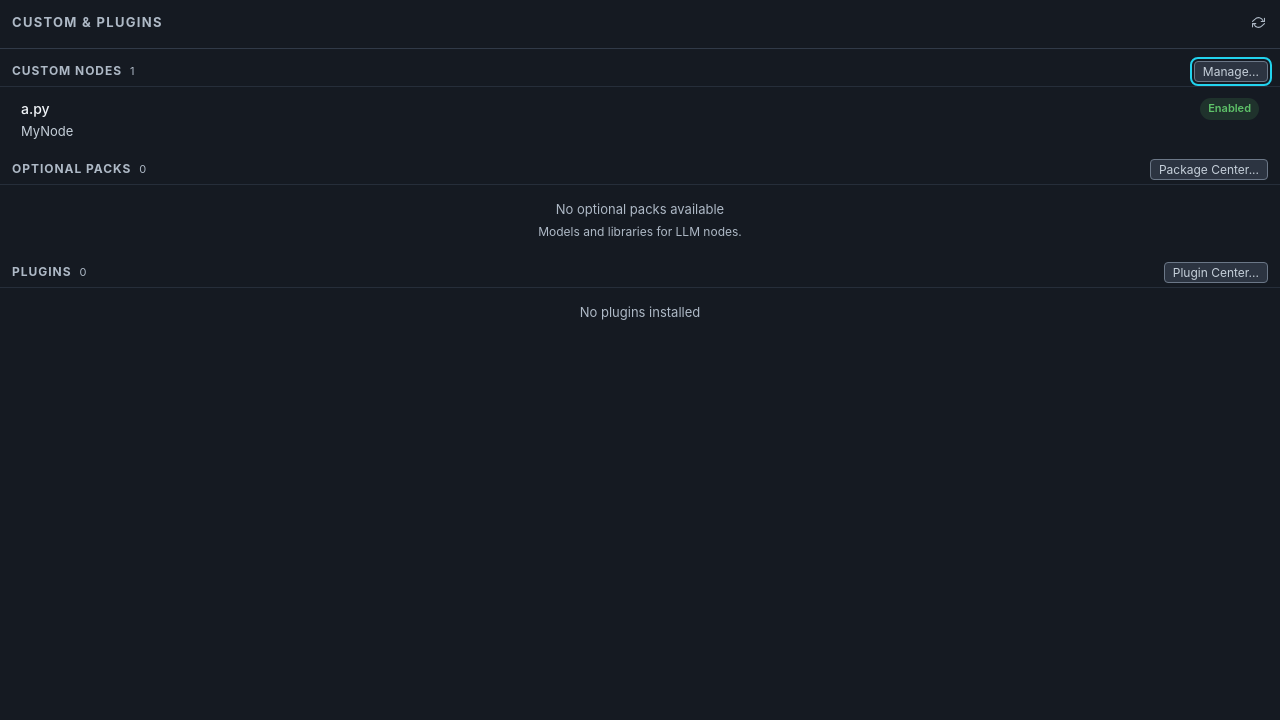
CustomTab › Manage... moves focus into the manager, and closing it hands focus back to Manage...
Expected: the text "a.py" is shown, [21, 100, 50, 117]
Step 1. Click the button "Manage..." → click(1231, 72), box [1194, 61, 1268, 82]
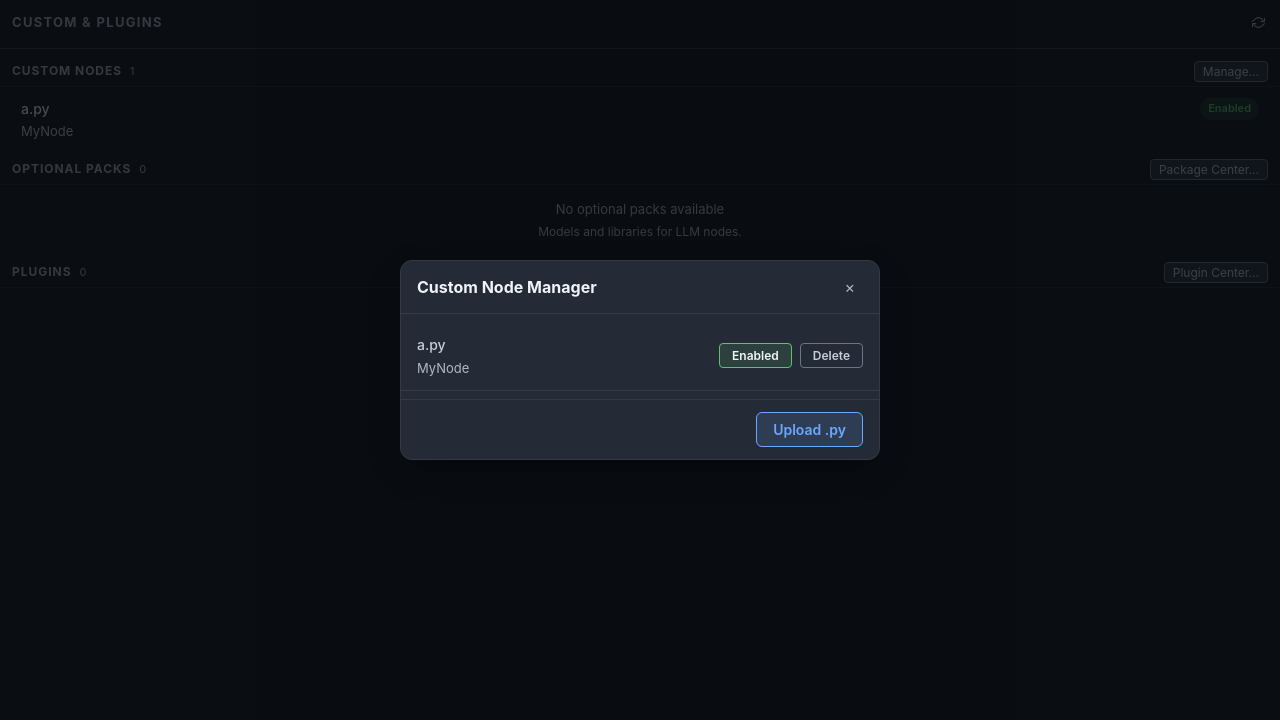
Result: the text "a.py" is shown at [417, 336, 446, 353]
Step 2. Click the button named "Close custom node manager" → click(850, 287), box [836, 273, 863, 301]
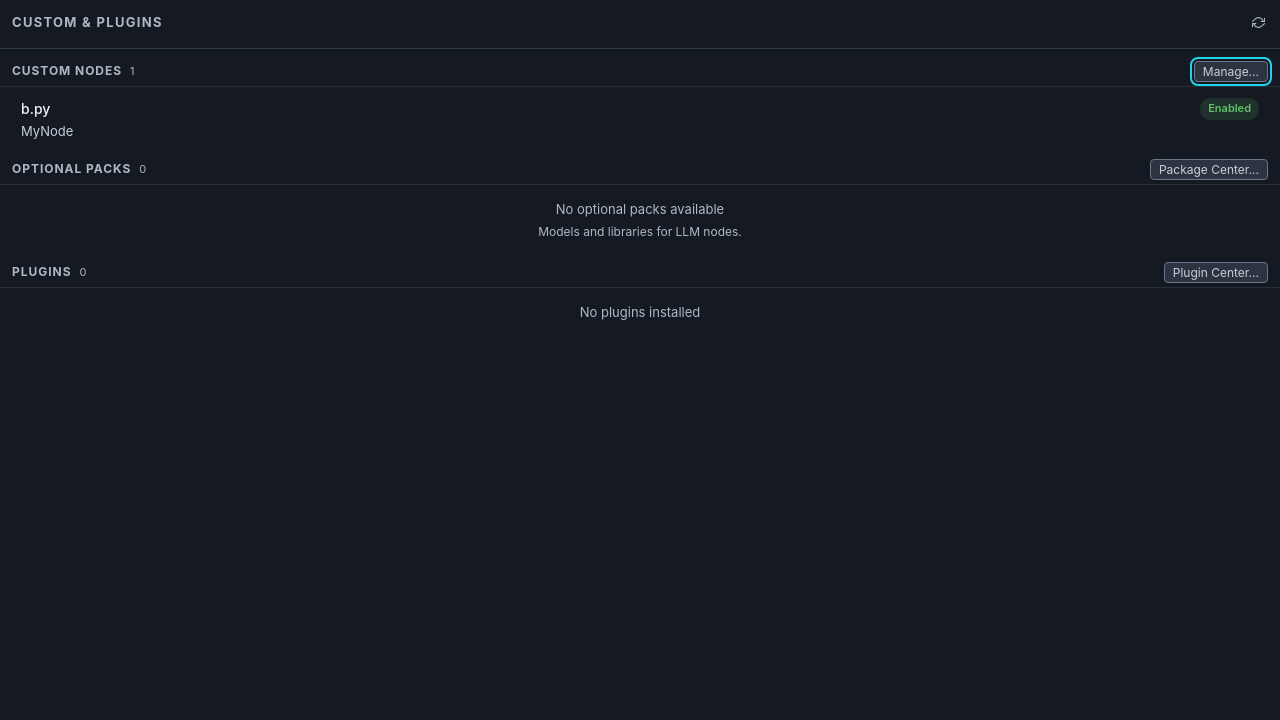
Result: the text "b.py" is shown at [21, 100, 50, 117]
